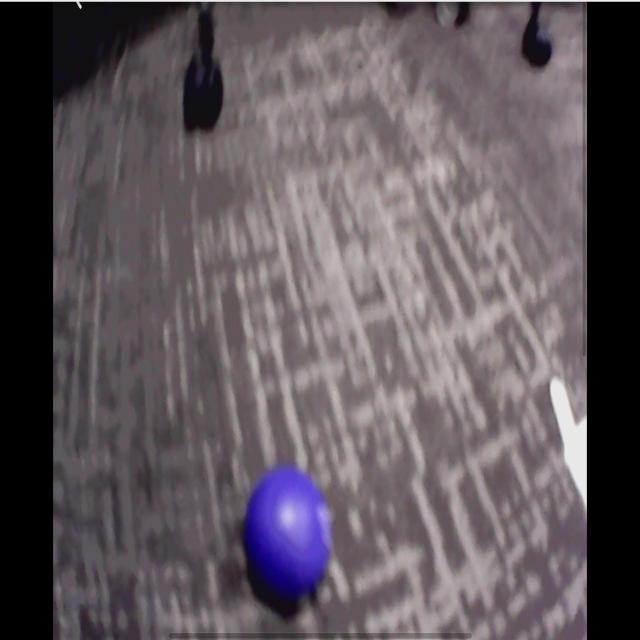ball: (245, 469, 333, 604)
